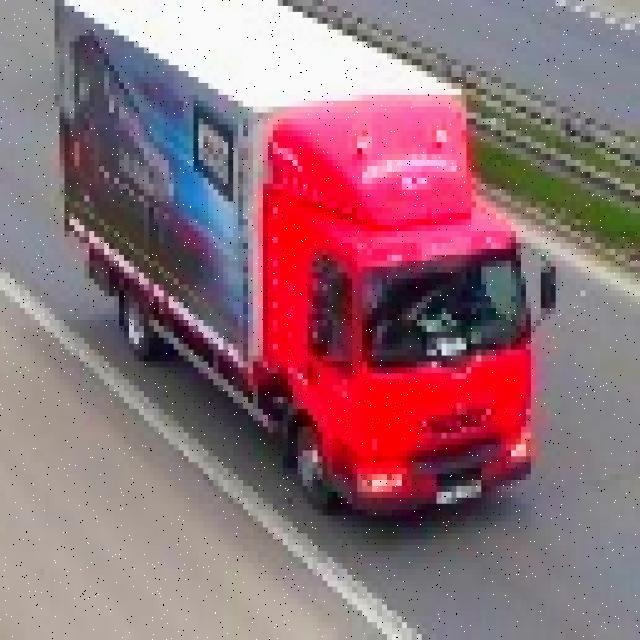truck: (55, 0, 556, 527)
